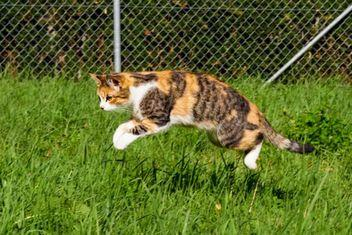Cat: (87, 66, 135, 111)
